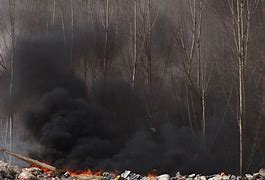smoke: (9, 33, 239, 170)
